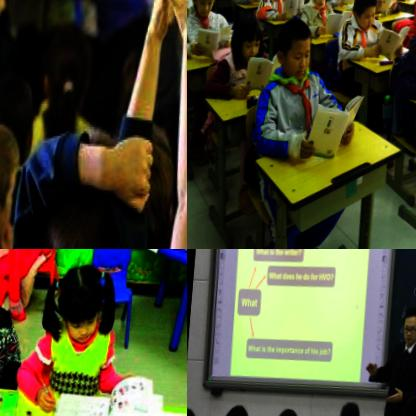head: (34, 149, 123, 249), (32, 16, 101, 132), (50, 261, 109, 349), (0, 61, 37, 163), (0, 112, 25, 249), (272, 20, 314, 84), (229, 18, 267, 62), (347, 0, 382, 36), (398, 308, 416, 349), (189, 0, 216, 21), (335, 398, 362, 416), (217, 402, 250, 416), (396, 396, 416, 416), (272, 407, 302, 416), (310, 0, 328, 10)
